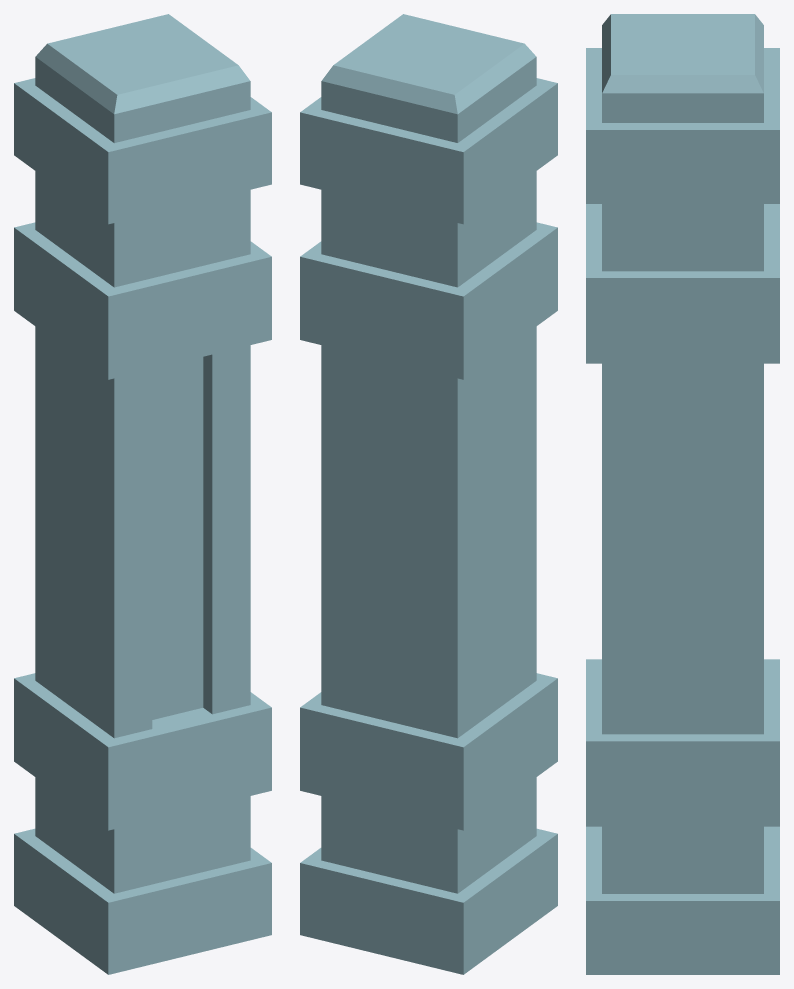
File: pillarSquare.obj
The picture shows the model from 3 angles, left to right: view 1: azimuth 30°, elevation 25°; view 2: azimuth 150°, elevation 25°; view 3: azimuth 270°, elevation 25°; orthographic projection. The views are drawn at different scales.
Visible parts, largest first — view 1: pillarSquare; view 2: pillarSquare; view 3: pillarSquare.
Boxes of the visible parts, box(x1,y1,x2,y2) form: pillarSquare: box(14, 14, 271, 974); pillarSquare: box(300, 14, 557, 974); pillarSquare: box(586, 14, 779, 974).
Size of the model in its own units: 0.2062 by 1.04 by 0.2062.
